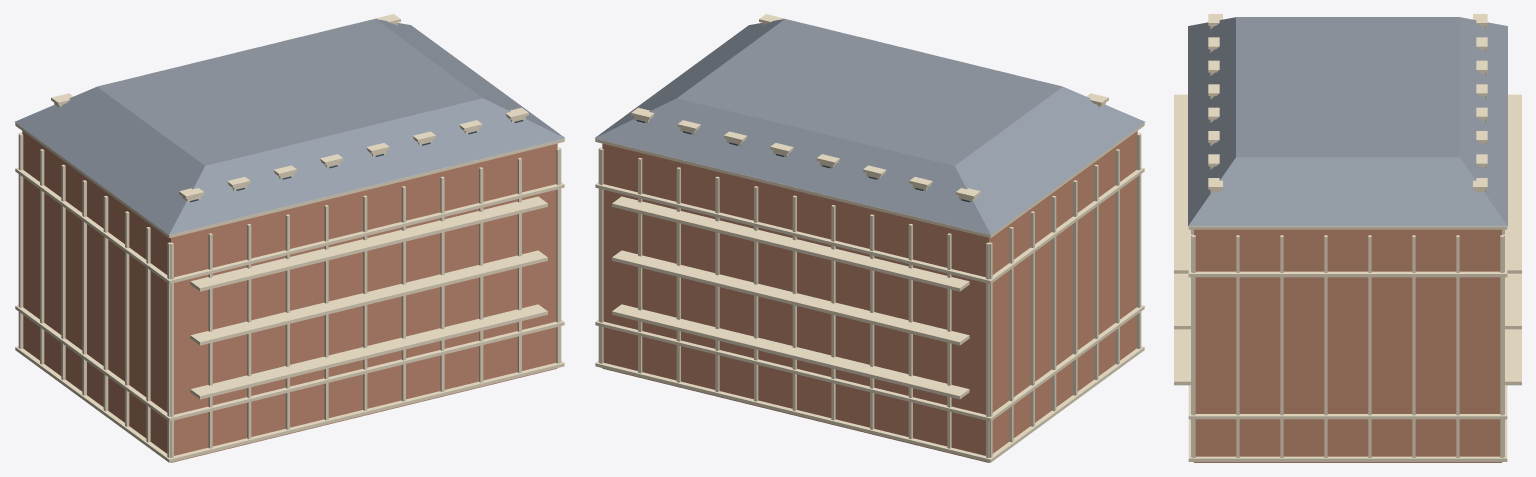
The model's file is heritage-5-lod1.glb.
3 renders of one model, left to right at view 1: azimuth 30°, elevation 25°; view 2: azimuth 150°, elevation 25°; view 3: azimuth 270°, elevation 25°, orthographic. The views are drawn at different scales.
Visible parts, largest first — view 1: heritage-5_architecture; view 2: heritage-5_architecture; view 3: heritage-5_architecture.
Part boxes in pixels (<box>): heritage-5_architecture: <box>15,14,565,462</box>; heritage-5_architecture: <box>594,14,1144,462</box>; heritage-5_architecture: <box>1174,14,1521,462</box>.
Bounding box in the file's own units: 30.8 × 19.95 × 22.6.
